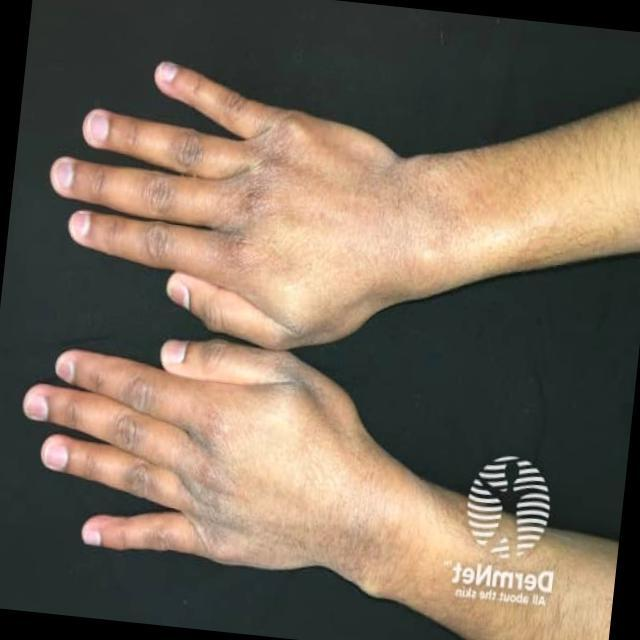Eczema: (219, 137, 457, 285), (175, 414, 390, 568)
